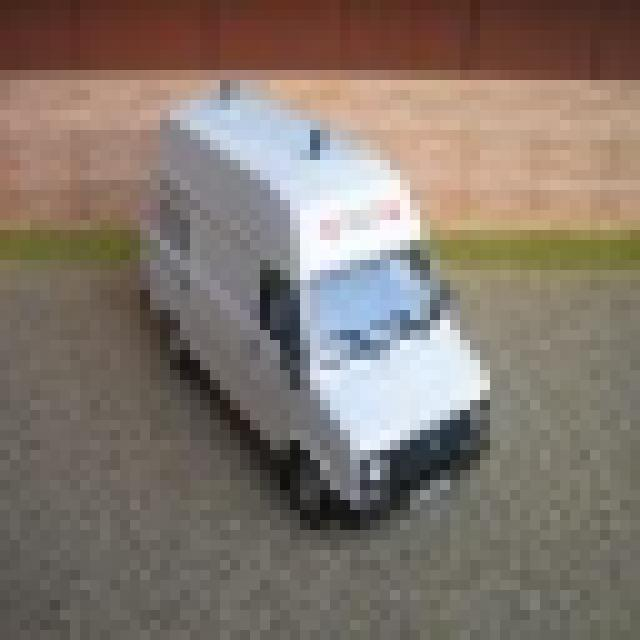Ambulance: (130, 70, 490, 520)
